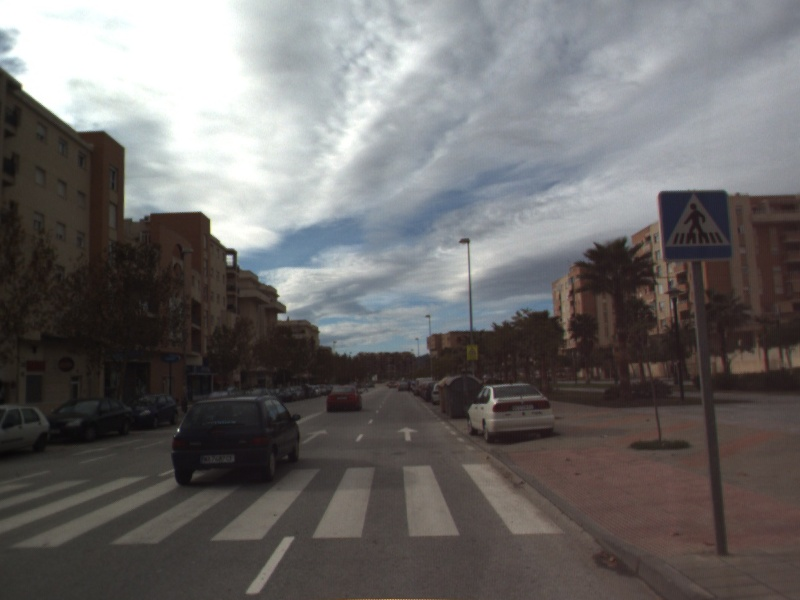STRAIGHT: (300, 427, 330, 445), (395, 425, 420, 443)
